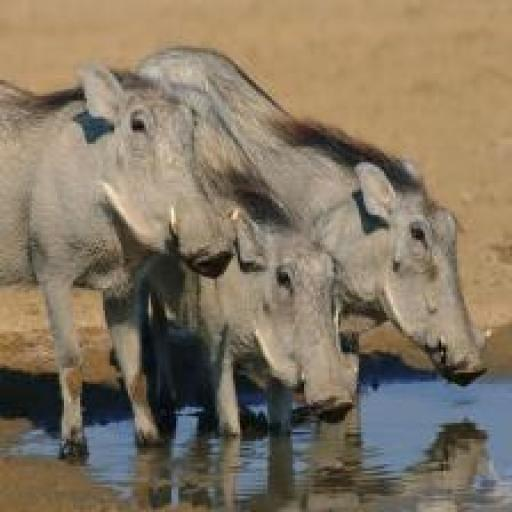Pig: (137, 48, 487, 432), (0, 59, 240, 456), (153, 110, 356, 436)
